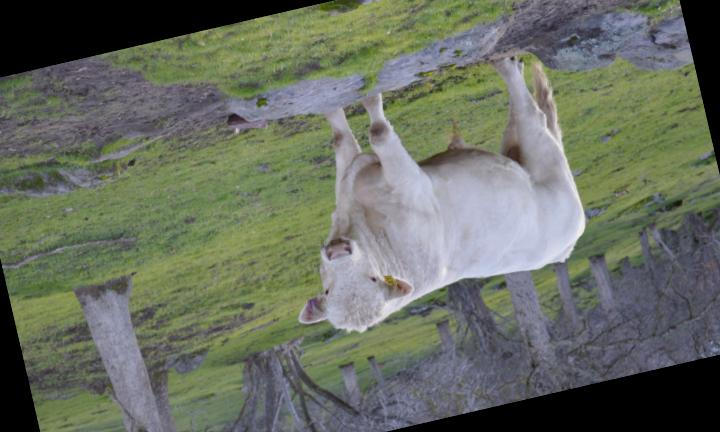Charolais: (300, 58, 584, 331)
